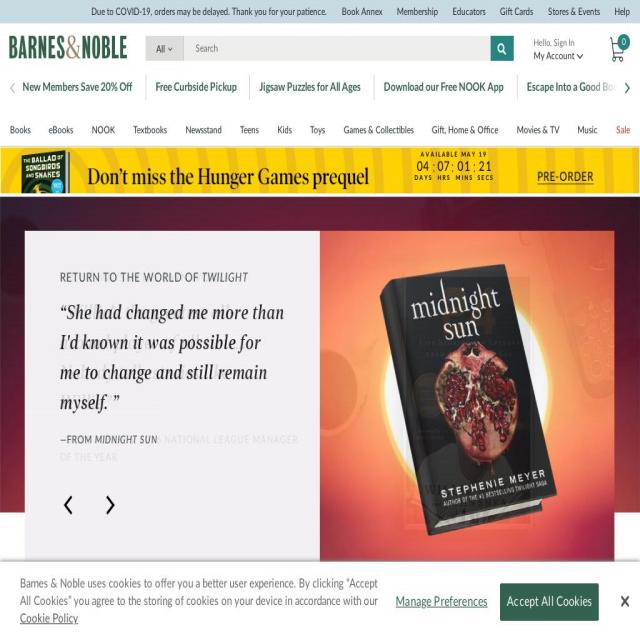login-option: (528, 30, 592, 65)
navigation-links: (11, 68, 640, 147), (341, 0, 639, 22)
search: (137, 32, 518, 65)
